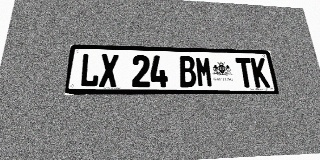2: (132, 55, 150, 87)
4: (150, 55, 168, 87)
B: (178, 56, 197, 87)
K: (250, 58, 270, 87)
L: (79, 54, 100, 87)
M: (195, 56, 214, 87)
T: (235, 57, 255, 87)
X: (99, 54, 119, 87)
